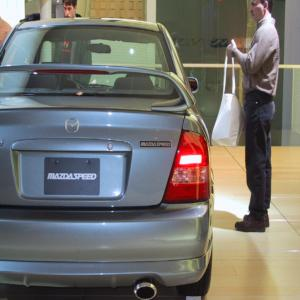Vehicle-registration-plate: (45, 157, 100, 197)
